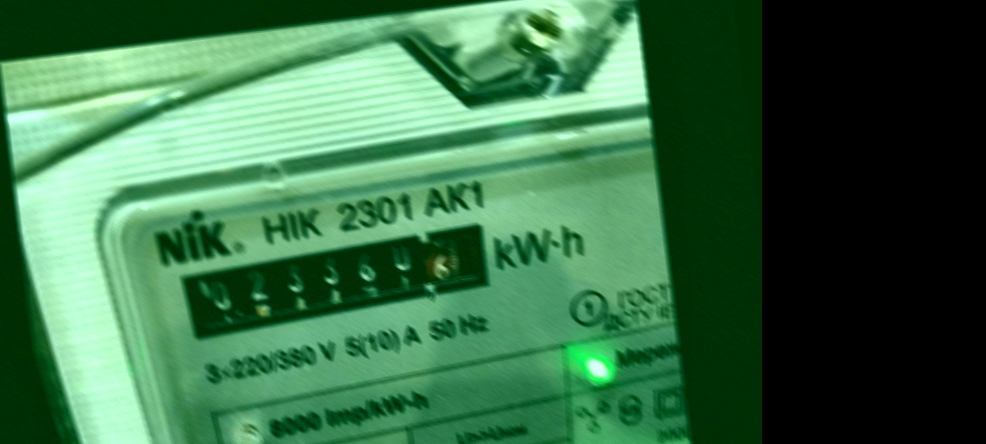0: (208, 276, 234, 313), (388, 240, 413, 273)
2: (246, 267, 270, 302)
3: (318, 251, 341, 286), (281, 261, 304, 295)
6: (353, 248, 378, 284), (429, 248, 454, 284)
screen: (162, 212, 509, 348)
